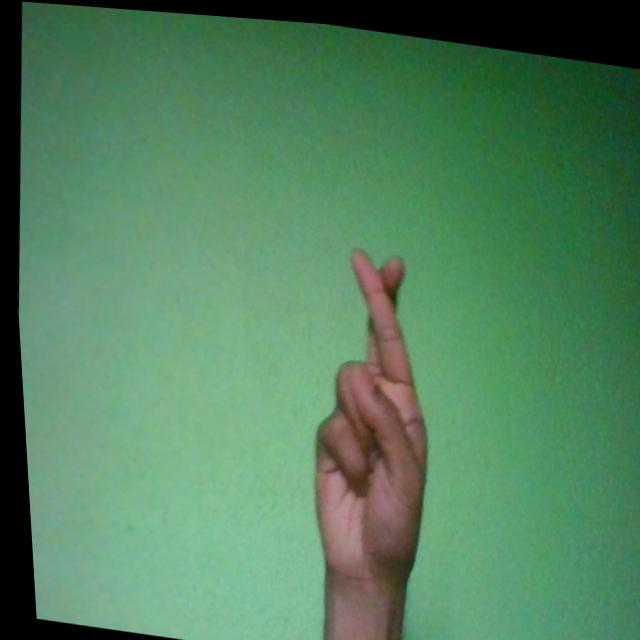Good Luck: (290, 235, 442, 600)
